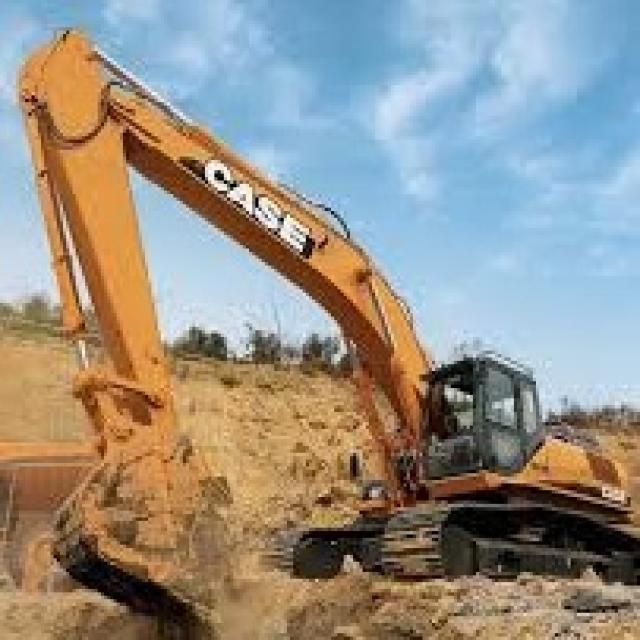excavator: (273, 325, 640, 607)
